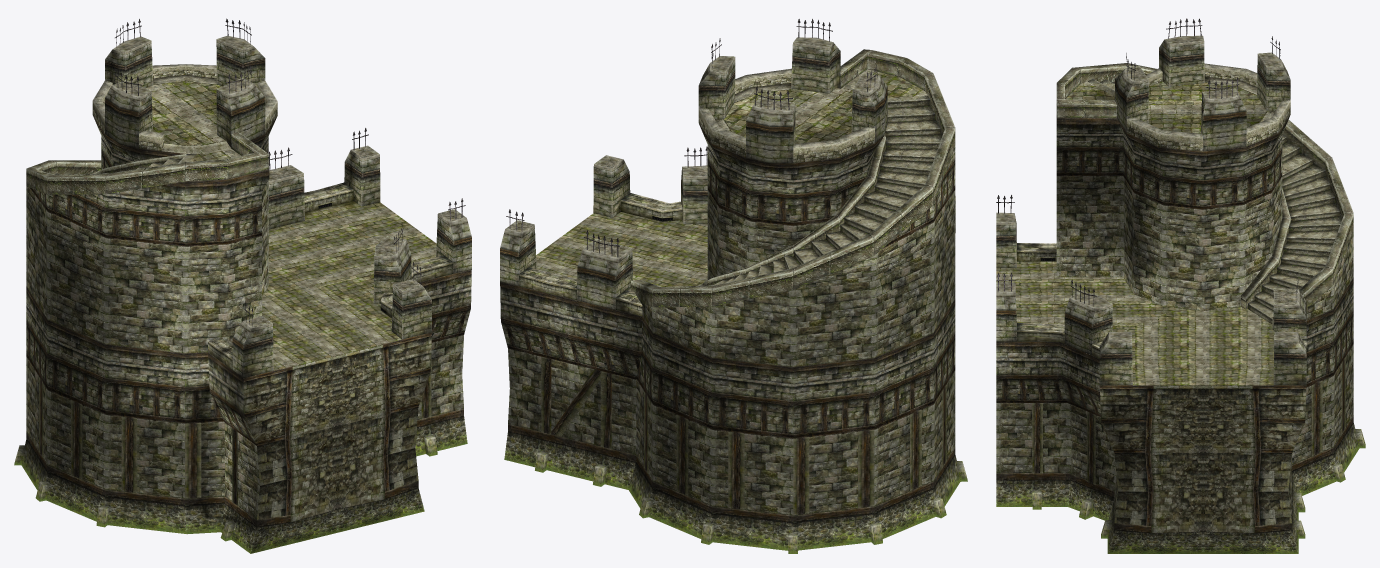
The model's file is OZ_30_ay_gate02E.glb.
The picture shows the model from 3 angles, left to right: view 1: azimuth 30°, elevation 25°; view 2: azimuth 150°, elevation 25°; view 3: azimuth 270°, elevation 25°; orthographic projection. The views are drawn at different scales.
Visible parts, largest first — view 1: OM_30_ay_gate02E; view 2: OM_30_ay_gate02E; view 3: OM_30_ay_gate02E.
Part boxes in pixels (x1,y1,x2,y2): OM_30_ay_gate02E: [14, 18, 471, 553]; OM_30_ay_gate02E: [500, 19, 967, 553]; OM_30_ay_gate02E: [996, 18, 1365, 553].
Bounding box in the file's own units: 20.18 × 21.46 × 17.85.
4 materials, 4 textured.
